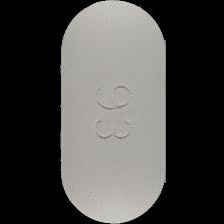43063-377: (0, 0, 224, 224)
